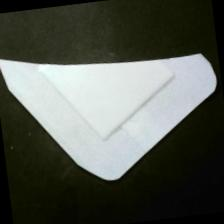Cut: (1, 32, 224, 195)
